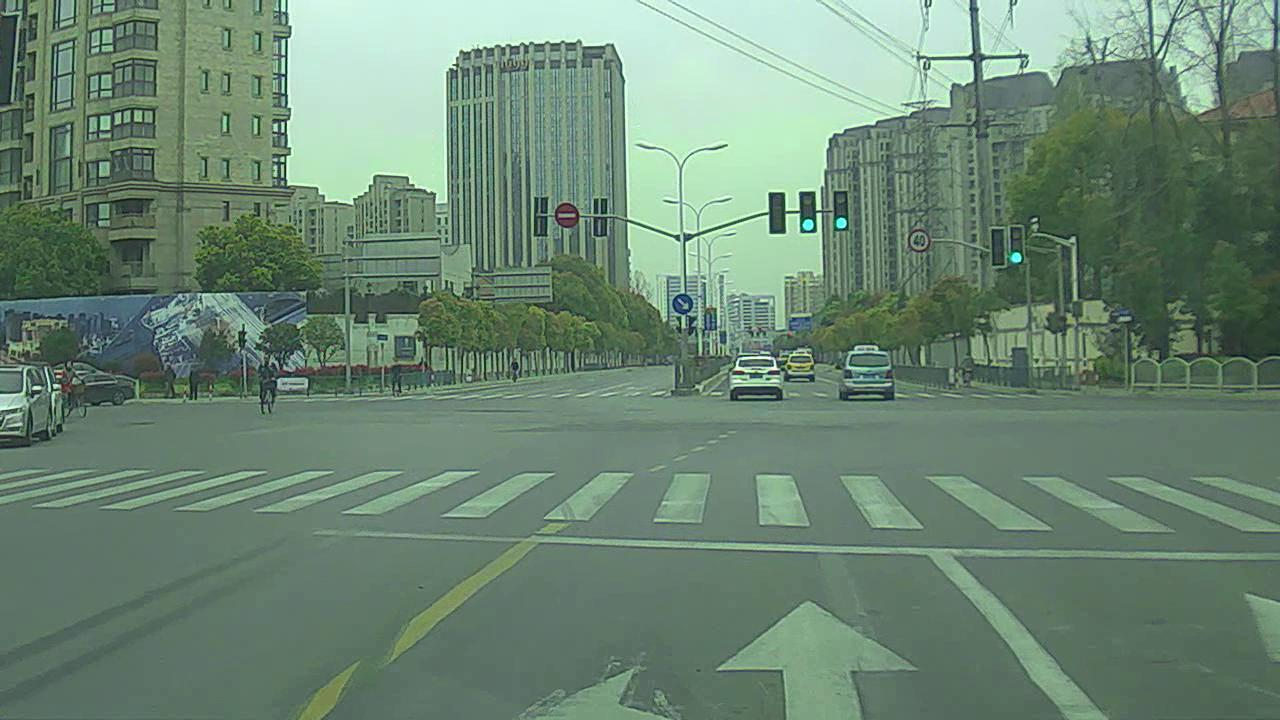traffic_light: (767, 192, 788, 233), (1007, 225, 1025, 265), (799, 191, 816, 231), (831, 190, 848, 227), (991, 227, 1004, 265)
